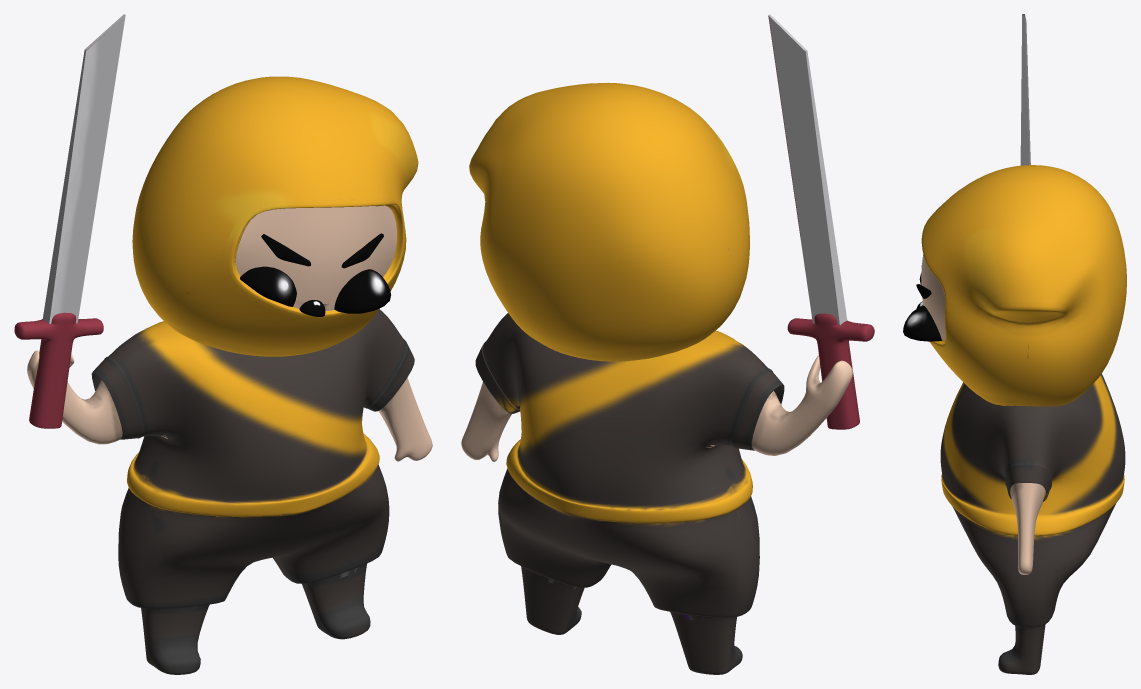
File: model_four.fbx
3 renders of one model, left to right at view 1: azimuth 30°, elevation 25°; view 2: azimuth 150°, elevation 25°; view 3: azimuth 270°, elevation 25°, orthographic. The views are drawn at different scales.
Visible parts, largest first — view 1: Roundcube.028, Roundcube.022, Roundcube.026, Cube.035, Roundcube.027, Cube.036, Sphere.020, Sphere.019; view 2: Roundcube.028, Roundcube.022, Cube.035, Roundcube.027, Cube.036; view 3: Roundcube.022, Roundcube.028, Roundcube.027, Cube.035, Roundcube.026, Sphere.020.
Part boxes in pixels (left/top/right/bottom): Roundcube.028: left=91, top=309, right=414, bottom=674; Roundcube.022: left=132, top=76, right=418, bottom=356; Roundcube.026: left=235, top=205, right=396, bottom=311; Cube.035: left=42, top=14, right=125, bottom=324; Roundcube.027: left=27, top=350, right=432, bottom=461; Cube.036: left=14, top=312, right=103, bottom=428; Sphere.020: left=334, top=269, right=390, bottom=313; Sphere.019: left=240, top=266, right=296, bottom=306; Roundcube.028: left=475, top=313, right=784, bottom=674; Roundcube.022: left=469, top=82, right=749, bottom=361; Cube.035: left=768, top=14, right=847, bottom=325; Roundcube.027: left=461, top=355, right=852, bottom=461; Cube.036: left=787, top=313, right=874, bottom=429; Roundcube.022: left=921, top=165, right=1126, bottom=406; Roundcube.028: left=940, top=374, right=1125, bottom=674; Roundcube.027: left=1010, top=483, right=1045, bottom=574; Cube.035: left=1020, top=14, right=1030, bottom=165; Roundcube.026: left=921, top=254, right=945, bottom=340; Sphere.020: left=903, top=306, right=942, bottom=341.
Bounding box in the file's own units: 141 × 219 × 78.21.
